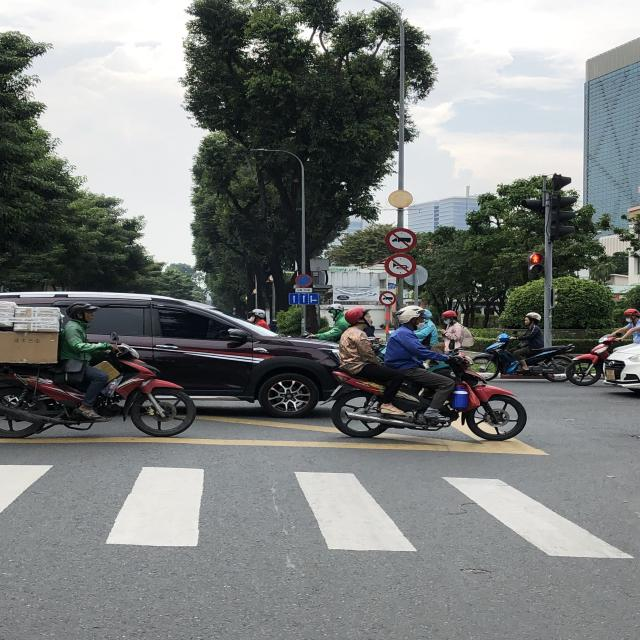Bien bao cam do xe: (293, 272, 313, 288)
Bien bao cam xe so-mi ro-mooc: (384, 226, 418, 251), (379, 290, 398, 307)
